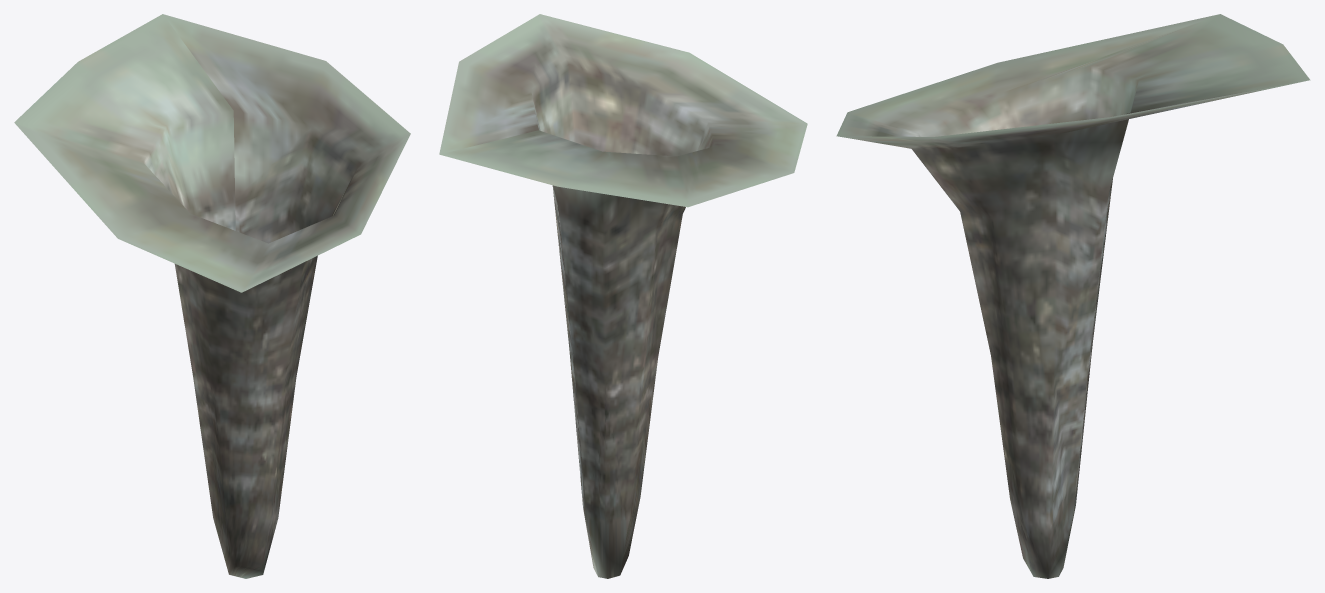
The model's file is TROLLHOLE02_PS-MAINSTALAG85.fbx.
3 views of the same model, side by side, from view 1: azimuth 30°, elevation 25°; view 2: azimuth 150°, elevation 25°; view 3: azimuth 270°, elevation 25° (orthographic). The views are drawn at different scales.
Parts seen in each view (by area): view 1: TROLLHOLE02_PS-MAINSTALAG85; view 2: TROLLHOLE02_PS-MAINSTALAG85; view 3: TROLLHOLE02_PS-MAINSTALAG85.
Boxes of the visible parts, left/top/right/bottom form: TROLLHOLE02_PS-MAINSTALAG85: left=14, top=14, right=410, bottom=578; TROLLHOLE02_PS-MAINSTALAG85: left=439, top=14, right=807, bottom=578; TROLLHOLE02_PS-MAINSTALAG85: left=836, top=14, right=1310, bottom=578.
Bounding box in the file's own units: 13398 × 22482 × 18691.
Materials: 1 (1 with a texture image).
